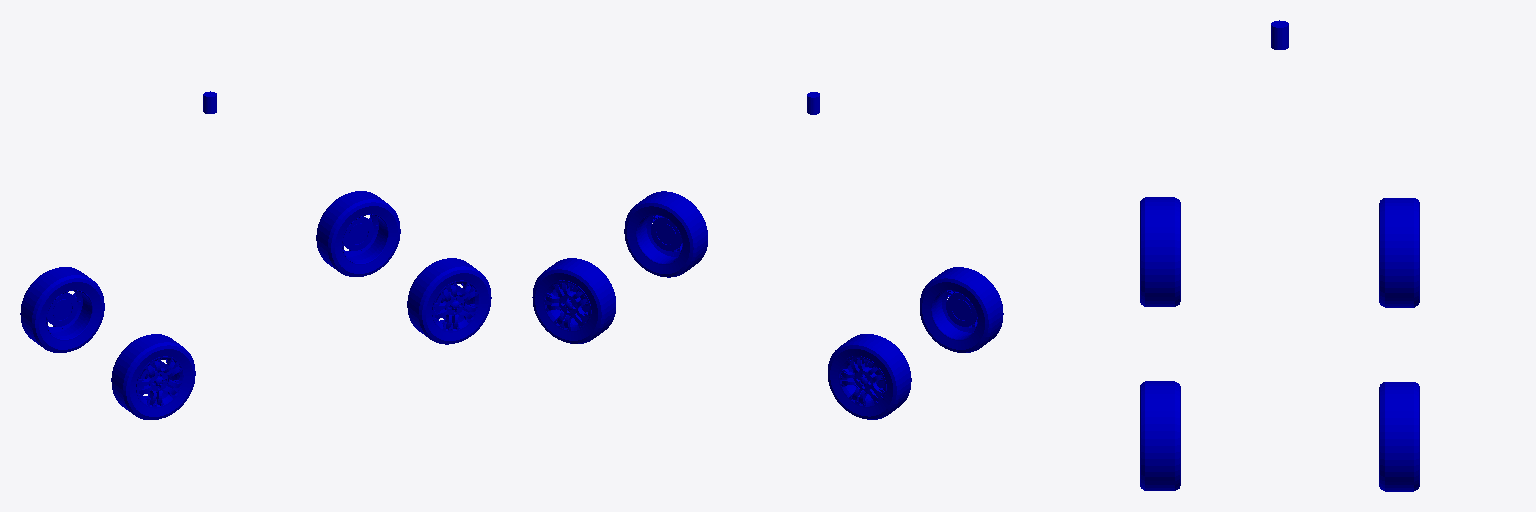
The robot description file, URDF, robot "CarinaTriLaser":
<?xml version="1.0" ?>

<robot name="CarinaTriLaser" 

       xmlns:xi="http://www.w3.org/2001/XInclude"
       xmlns:gazebo="http://playerstage.sourceforge.net/gazebo/xmlschema/#gz"
       xmlns:model="http://playerstage.sourceforge.net/gazebo/xmlschema/#model"
       xmlns:sensor="http://playerstage.sourceforge.net/gazebo/xmlschema/#sensor"
       xmlns:body="http://playerstage.sourceforge.net/gazebo/xmlschema/#body"
       xmlns:geom="http://playerstage.sourceforge.net/gazebo/xmlschema/#geom"
       xmlns:joint="http://playerstage.sourceforge.net/gazebo/xmlschema/#joint"
       xmlns:interface="http://playerstage.sourceforge.net/gazebo/xmlschema/#interface"
       xmlns:rendering="http://playerstage.sourceforge.net/gazebo/xmlschema/#rendering"
       xmlns:renderable="http://playerstage.sourceforge.net/gazebo/xmlschema/#renderable"
       xmlns:controller="http://playerstage.sourceforge.net/gazebo/xmlschema/#controller"
       xmlns:physics="http://playerstage.sourceforge.net/gazebo/xmlschema/#physics">


  <!-- Included URDF Files -->
  <material name="Black">
    <color rgba="0.0 0.0 0.0 1.0"/>
  </material>
  <material name="Blue">
    <color rgba="0.0 0.0 0.8 1.0"/>
  </material>
  <material name="Green">
    <color rgba="0.0 0.3 0.02 1.0"/>
  </material>
  <material name="Grey">
    <color rgba="0.7 0.7 0.7 1.0"/>
  </material>
  <material name="Grey2">
    <color rgba="0.2 0.2 0.2 1.0"/>
  </material>
  <material name="Red">
    <color rgba="0.8 0.0 0.0 1.0"/>
  </material>
  <material name="White">
    <color rgba="1.0 1.0 1.0 1.0"/>
  </material>
  <material name="Yellow">
    <color rgba="0.299999 0.2777 0 1.0"/>
  </material>


  <link name="base_footprint">
    <inertial>
      <mass value="0.0001"/>
      <origin xyz="0 0 0"/>
      <inertia ixx="0.0001" ixy="0.0" ixz="0.0" iyy="0.0001" iyz="0.0" izz="0.0001"/>
    </inertial>
    <visual>
      <origin rpy="0 0 0" xyz="0 0 0"/>
      <geometry>
        <box size="0.001 0.001 0.001"/>
      </geometry>
      <material name="Green"/>
    </visual>
    <collision>
      <origin rpy="0 0 0" xyz="0 0 0.0"/>
      <geometry>
        <box size="0.001 0.001 0.001"/>
      </geometry>
    </collision>
  </link>


  <joint name="base_footprint_joint" type="fixed">
    <!--origin rpy="0 0 0" xyz="0 0 0.74"/-->
    <origin rpy="0 0 0" xyz="0 0 0.35"/>	
    <parent link="base_footprint"/>
    <child link="base_link"/>
  </joint>

  <!--CarinaBase /-->
  <link name="base_link" >
    <inertial>
      <mass value="0.001"/>
      <origin xyz="0 0 0"/>
      <inertia ixx="0.0001" ixy="0.0" ixz="0.0" iyy="0.0001" iyz="0.0" izz="0.0001"/>
   </inertial>

    <visual>
      <origin rpy="0 0 0" xyz="0 0 0"/>
      <geometry>
        <box size="0.001 0.001 0.001"/>
      </geometry>
      <material name="Green"/>
    </visual>

    <collision>
      <origin rpy="0 0 0" xyz="0 0 0"/>
      <geometry>
        <box size="0.001 0.001 0.001"/>
      </geometry>
    </collision>
  </link>


 
    <joint name="chassis_13_joint" type="fixed">
            <origin xyz="0.0 0 0.3" rpy="0 0 0" />
            <parent link="base_link"/>
            <child link="chassis_13"/>  
        </joint>

        
        <link name="chassis_13">
            <inertial>
                <mass value="20" />
                <origin xyz="0 0 0" />
                <inertia ixx="1.0" ixy="0.0" ixz="0.0"
                         iyy="1.0" iyz="0.0" 
                         izz="1.0" />
            </inertial>
            
            <visual>
                <origin xyz="0 0 0" rpy="0 0 0" />
                <geometry>
                    <mesh filename="package://carina_description/meshes/collada/palio/palio.dae" scale="0.8 0.8 0.8"/>
                </geometry>
                <material name="Blue" />
            </visual>
            
            <collision>
                <origin xyz="0 0 0" rpy="0 0 0" />
                <geometry>
                    <mesh filename="package://carina_description/meshes/collada/palio/palio.dae" scale="0.8 0.8 0.8"/>
                </geometry>
            </collision>
        </link>



  <joint name="chassis_velodyne_joint" type="fixed">
            <origin xyz="-0.30 0  1.35" rpy="0 0 0" />
            <parent link="chassis_13"/>
            <child link="velodyne"/>  
  </joint>

        
        <link name="velodyne">
            <inertial>
                <mass value="2" />
                <origin xyz="0 0 0" />
                <inertia ixx="1.0" ixy="0.0" ixz="0.0"
                         iyy="1.0" iyz="0.0" 
                         izz="1.0" />
            </inertial>
            
            <visual>
                <origin xyz="0 0 0" rpy="0 0 0" />
                <geometry>
                    <cylinder radius="0.05" length="0.14"/>
                </geometry>
                <material name="Blue" />
            </visual>
            
            <collision>
                <origin xyz="0 0 0" rpy="0 0 0" />
                <geometry>
                    <cylinder radius="0.05" length="0.14"/>
                </geometry>
            </collision>
        </link>







  <joint name="chassis_roda01_joint" type="continuous">
            <origin xyz="1.35 -0.74 -0.37" rpy="0 0 0" />
            <axis xyz="0 1 0" rpy="0 0 0" />
            <limit effort="100" velocity="100"/>
            <joint_properties damping="0.0" friction="0.0"/>
            <parent link="chassis_13"/>
            <child link="roda01"/>  
        </joint>

        
        <link name="roda01">
            <inertial>
                <mass value="20" />
                <origin xyz="0 0 0" />
                <inertia ixx="1.0" ixy="0.0" ixz="0.0"
                         iyy="1.0" iyz="0.0" 
                         izz="1.0" />
            </inertial>
            
            <visual>
                <origin xyz="0 0 0" rpy="0 0 0" />
                <geometry>
                    <mesh filename="package://carina_description/meshes/collada/palio/roda.dae" scale="0.8 0.8 0.8"/>
                </geometry>
                <material name="Blue" />
            </visual>
            
            <collision>
                <origin xyz="0 0 0" rpy="0 0 0" />
                <geometry>
                    <mesh filename="package://carina_description/meshes/collada/palio/roda.dae" scale="0.8 0.8 0.8"/>
                </geometry>
            </collision>
        </link>



 <joint name="chassis_roda02_joint" type="continuous">
            <origin xyz="1.35 0.74 -0.37" rpy="0 0 3.14" />
            <axis xyz="0 1 0" rpy="0 0 0" />
            <limit effort="100" velocity="100"/>
            <joint_properties damping="0.0" friction="0.0"/>

            <parent link="chassis_13"/>
            <child link="roda02"/>  
        </joint>

        
        <link name="roda02">
            <inertial>
                <mass value="20" />
                <origin xyz="0 0 0" />
                <inertia ixx="1.0" ixy="0.0" ixz="0.0"
                         iyy="1.0" iyz="0.0" 
                         izz="1.0" />
            </inertial>
            
            <visual>
                <origin xyz="0 0 0" rpy="0 0 0" />
                <geometry>
                    <mesh filename="package://carina_description/meshes/collada/palio/roda.dae" scale="0.8 0.8 0.8"/>
                </geometry>
                <material name="Blue" />
            </visual>
            
            <collision>
                <origin xyz="0 0 0" rpy="0 0 0" />
                <geometry>
                    <mesh filename="package://carina_description/meshes/collada/palio/roda.dae" scale="0.8 0.8 0.8"/>
                </geometry>
            </collision>
        </link>



<joint name="chassis_roda03_joint" type="continuous">
            <origin xyz="-1.17 -0.74 -0.4" rpy="0 0 0" />
            <axis xyz="0 1 0" rpy="0 0 0" />
            <limit effort="100" velocity="100"/>
            <joint_properties damping="0.0" friction="0.0"/>

            <parent link="chassis_13"/>
            <child link="roda03"/>  
        </joint>

        
        <link name="roda03">
            <inertial>
                <mass value="20" />
                <origin xyz="0 0 0" />
                <inertia ixx="1.0" ixy="0.0" ixz="0.0"
                         iyy="1.0" iyz="0.0" 
                         izz="1.0" />
            </inertial>
            
            <visual>
                <origin xyz="0 0 0" rpy="0 0 0" />
                <geometry>
                    <mesh filename="package://carina_description/meshes/collada/palio/roda.dae" scale="0.8 0.8 0.8"/>
                </geometry>
                <material name="Blue" />
            </visual>
            
            <collision>
                <origin xyz="0 0 0" rpy="0 0 0" />
                <geometry>
                    <mesh filename="package://carina_description/meshes/collada/palio/roda.dae" scale="0.8 0.8 0.8"/>
                </geometry>
            </collision>
        </link>



 <joint name="chassis_roda04_joint" type="continuous">
            <origin xyz="-1.17 0.74 -0.4" rpy="0 0 3.14" />
            <axis xyz="0 1 0" rpy="0 0 0" />
            <limit effort="100" velocity="100"/>
            <joint_properties damping="0.0" friction="0.0"/>

            <parent link="chassis_13"/>
            <child link="roda04"/>  
        </joint>

        
        <link name="roda04">
            <inertial>
                <mass value="20" />
                <origin xyz="0 0 0" />
                <inertia ixx="1.0" ixy="0.0" ixz="0.0"
                         iyy="1.0" iyz="0.0" 
                         izz="1.0" />
            </inertial>
            
            <visual>
                <origin xyz="0 0 0" rpy="0 0 0" />
                <geometry>
                    <mesh filename="package://carina_description/meshes/collada/palio/roda.dae" scale="0.8 0.8 0.8"/>
                </geometry>
                <material name="Blue" />
            </visual>
            
            <collision>
                <origin xyz="0 0 0" rpy="0 0 0" />
                <geometry>
                    <mesh filename="package://carina_description/meshes/collada/palio/roda.dae" scale="0.8 0.8 0.8"/>
                </geometry>
            </collision>
        </link>



</robot>

--- Facts derived from the render (not from the file) ---
3 views of the same robot in one strip: view 1: azimuth 30°, elevation 25°; view 2: azimuth 150°, elevation 25°; view 3: azimuth 270°, elevation 25° (orthographic).
Robot: CarinaTriLaser — 8 links, 7 joints (4 continuous, 3 fixed); root link base_footprint; default pose: all joints at 0.
Visible links, largest first — view 1: roda01, roda03, roda02, roda04; view 2: roda01, roda03, roda04, roda02; view 3: roda01, roda03, roda04, roda02.
Link boxes in pixels (x1,y1,x2,y2): roda01: [407, 258, 491, 344]; roda03: [111, 334, 195, 419]; roda02: [316, 191, 400, 276]; roda04: [20, 267, 104, 352]; roda01: [624, 191, 707, 277]; roda03: [920, 267, 1003, 352]; roda04: [828, 334, 911, 419]; roda02: [532, 258, 615, 343]; roda01: [1140, 381, 1180, 490]; roda03: [1140, 197, 1180, 306]; roda04: [1379, 198, 1419, 307]; roda02: [1379, 382, 1419, 491].
Size in the robot's own frame: 3.15 by 1.58 by 2.14 metres.
Meshes: 2 distinct files referenced, 4 mesh visuals loaded (1 Collada DAE); not drawn: 1 (reference not matched to a file when rendering).
